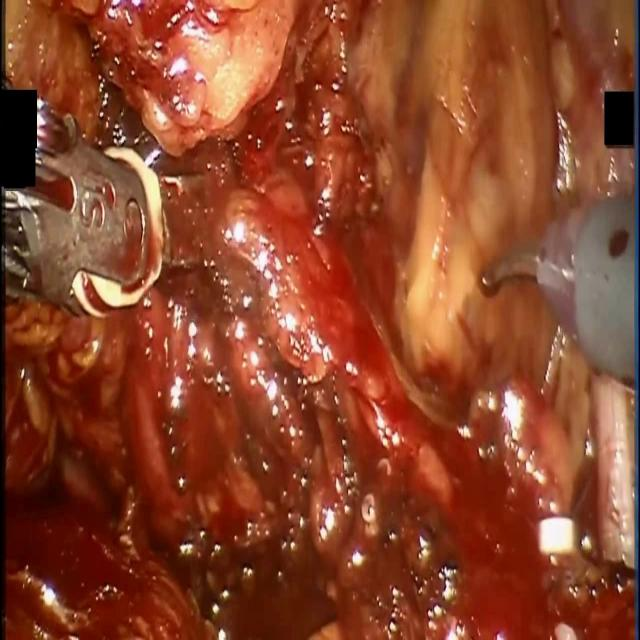surgical-area: (0, 0, 640, 639)
surgical-tool: (0, 96, 165, 317), (480, 189, 637, 388)
